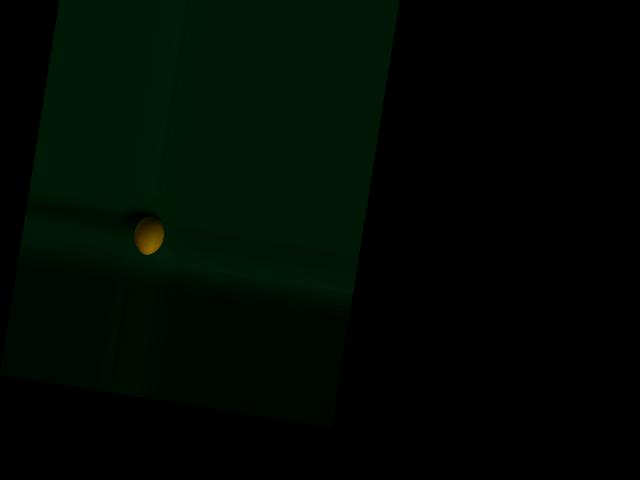egg: (132, 214, 167, 257)
